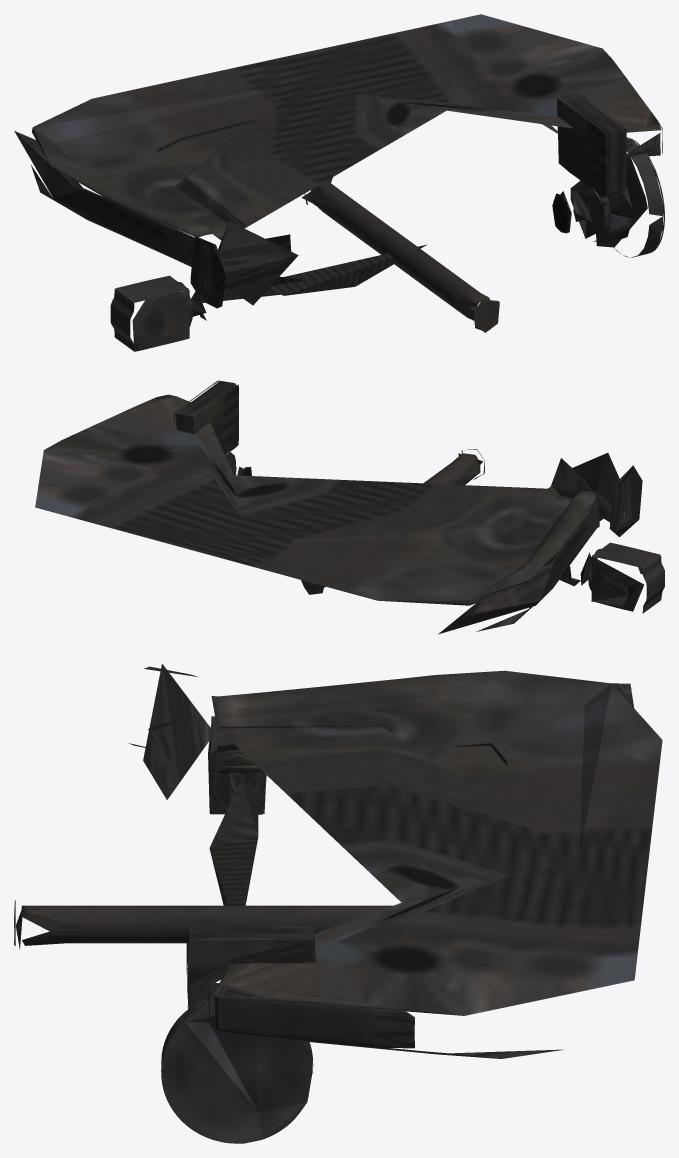
The model's file is tool_clamp_c01.glb.
3 views of the same model, one above another, from view 1: azimuth 30°, elevation 25°; view 2: azimuth 150°, elevation 25°; view 3: azimuth 270°, elevation 25° (orthographic). The views are drawn at different scales.
Visible parts, largest first — view 1: geometry_0; view 2: geometry_0; view 3: geometry_0.
Boxes of the visible parts, x1,y1,x2,y2 form: geometry_0: (14,14,664,351); geometry_0: (35,380,664,634); geometry_0: (14,663,662,1143).
Size of the model in its own units: 0.42 by 0.1102 by 0.3193.
1 material, 1 textured.
